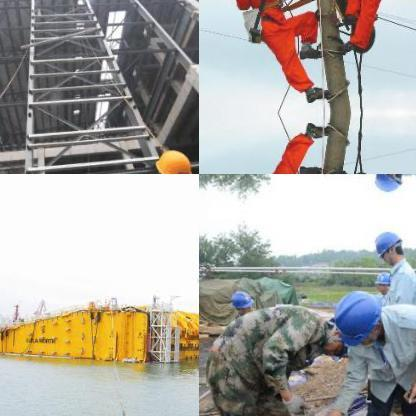Helmet: (328, 286, 384, 346), (370, 226, 404, 264), (153, 145, 196, 173), (370, 174, 405, 195), (228, 288, 252, 314), (372, 270, 393, 296)
